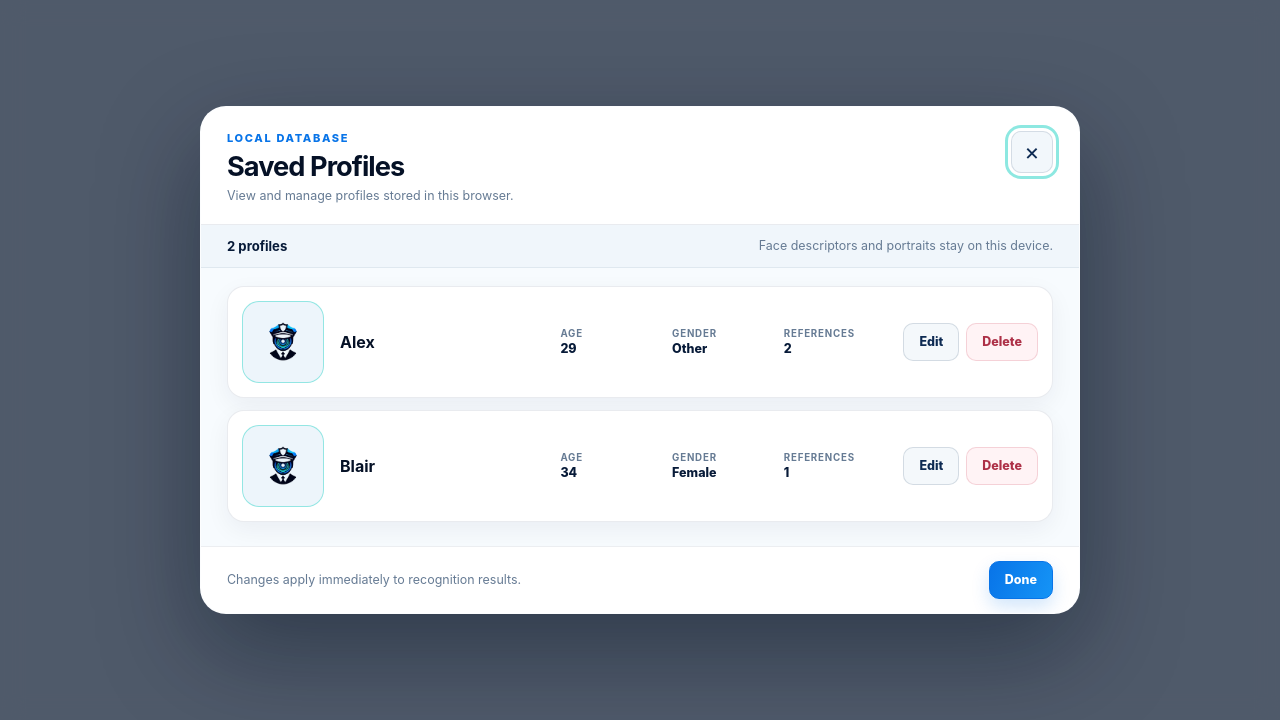
Test: requires explicit delete confirmation before removing metadata and portrait
Click the button with aria-label "Delete Alex".
click(1002, 342)  # box [966, 323, 1038, 361]
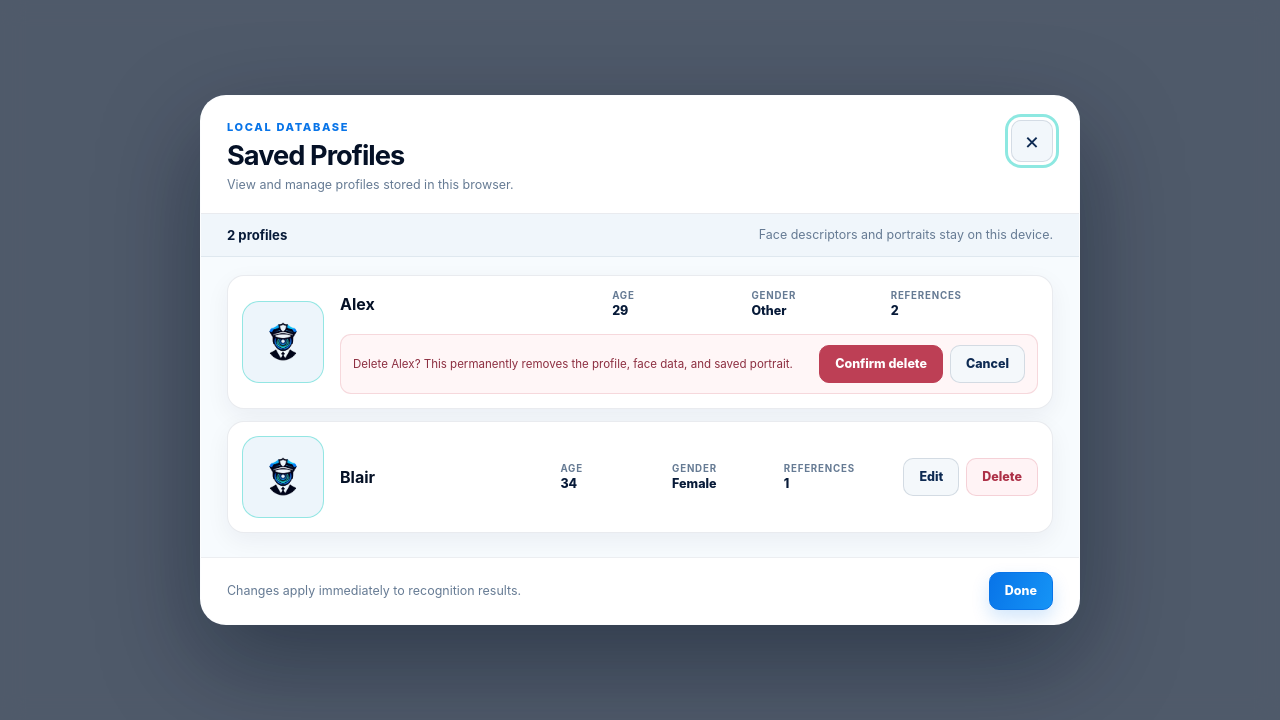
Expected: the element named "Confirm deleting Alex" is shown, [340, 334, 1038, 394]
Click the button "Confirm delete".
click(881, 364)  # box [819, 345, 943, 383]
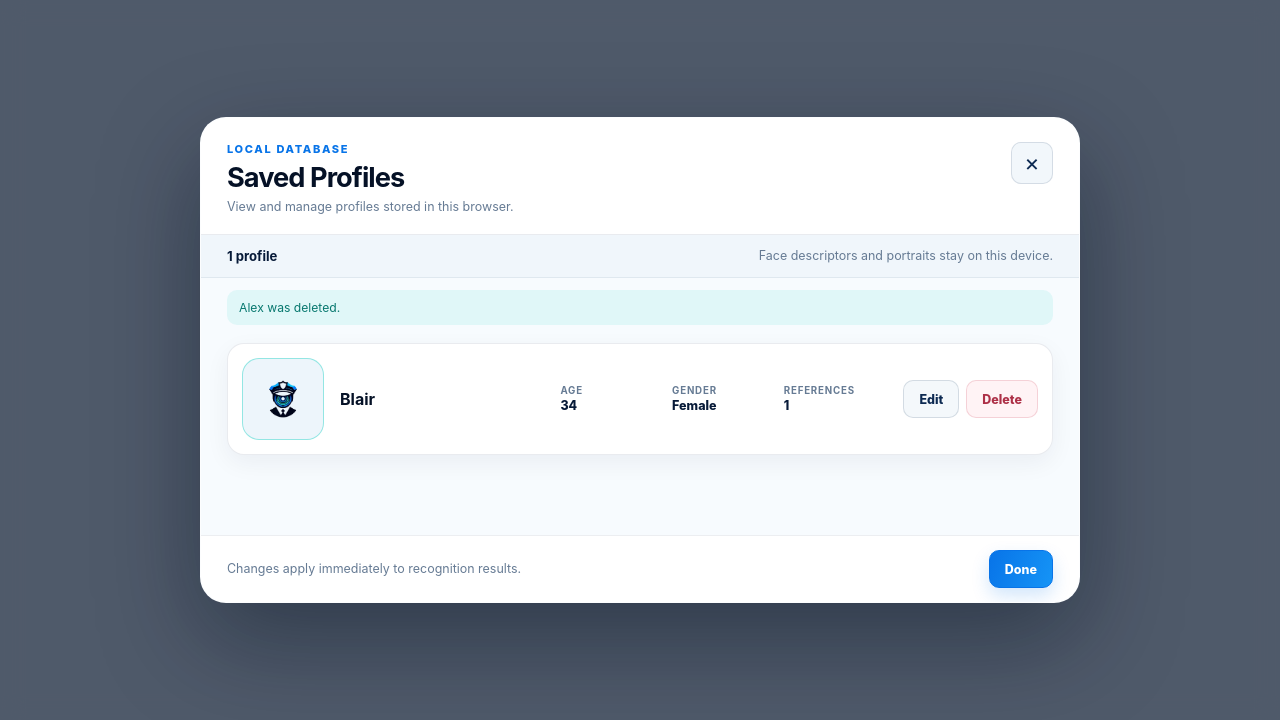
Expected: the heading "Blair" is shown, [340, 389, 375, 409]
Expected: the message reads "Alex was deleted.", [239, 300, 340, 315]
